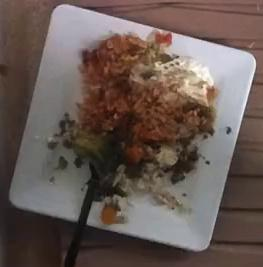rice_mix: (77, 31, 217, 163)
